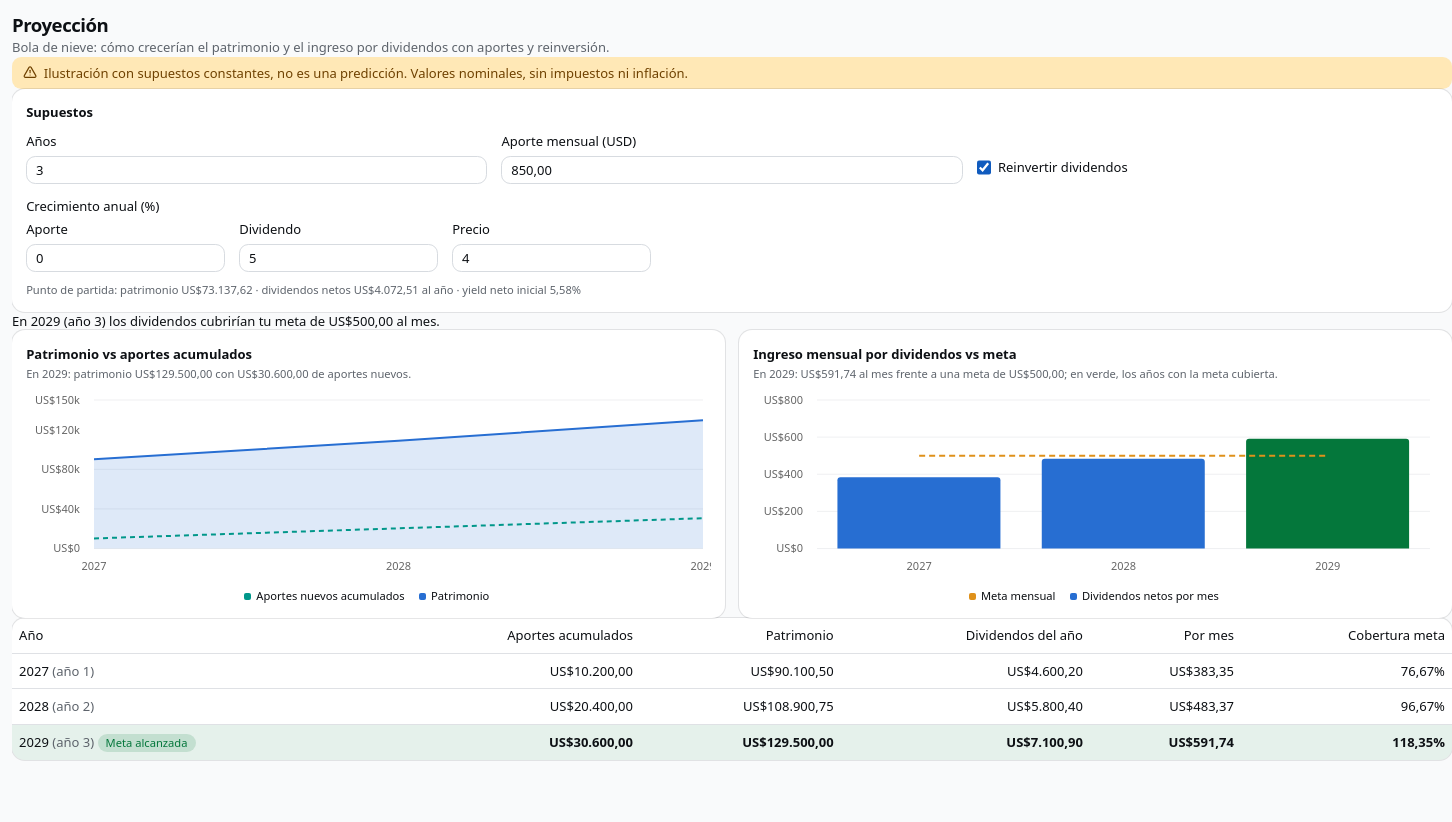
Test case: ProjectionScreen › valida los supuestos antes de pedir
Replace the text in the field labelled "Aporte mensual (USD)" with "mucho" at coordinates (732, 170), box [501,156,963,184]
Wait 600 ms
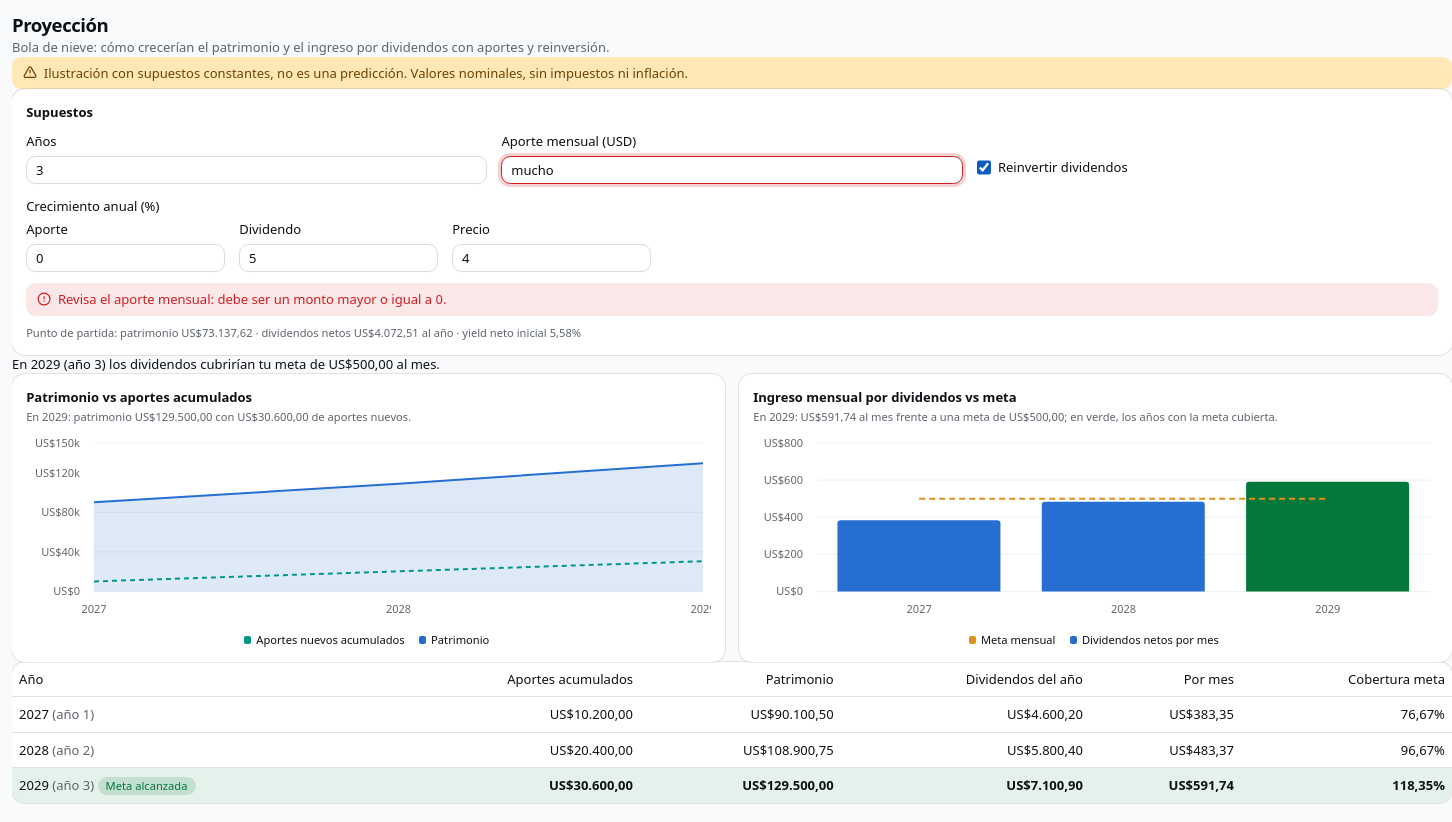
Expected: the message shows "aporte mensual", [58,290,446,308]
